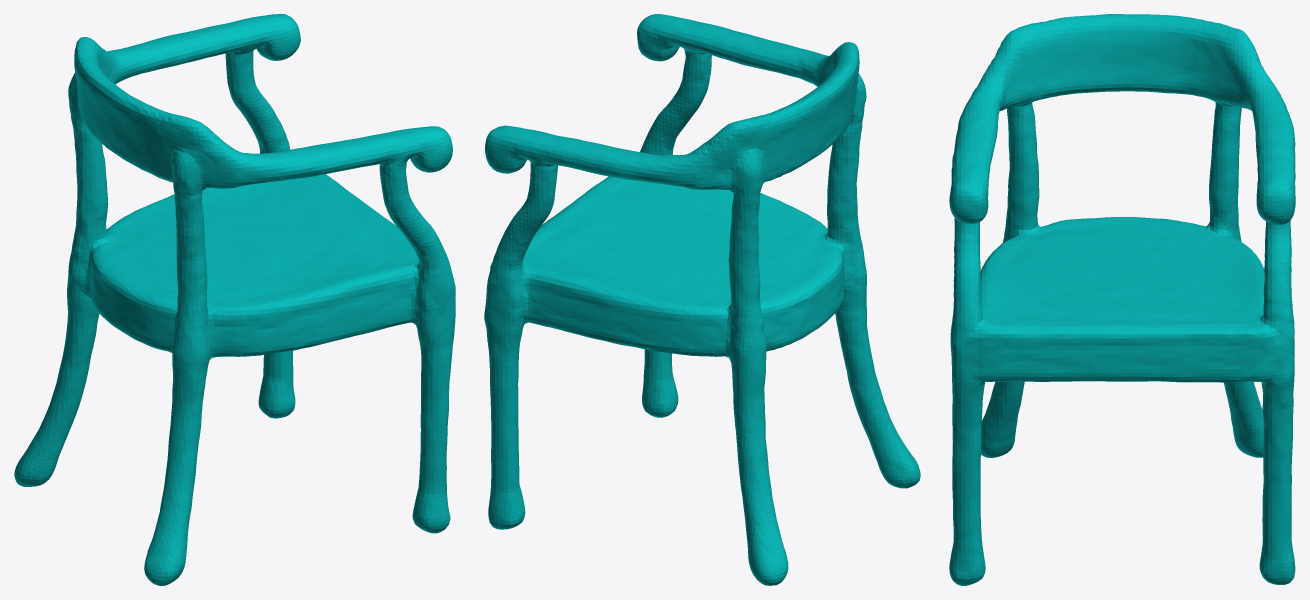
The model's file is chair.glb.
3 renders of one model, left to right at view 1: azimuth 30°, elevation 25°; view 2: azimuth 150°, elevation 25°; view 3: azimuth 270°, elevation 25°, orthographic.
Size of the model in its own units: 0.7194 by 1.04 by 0.7235.
